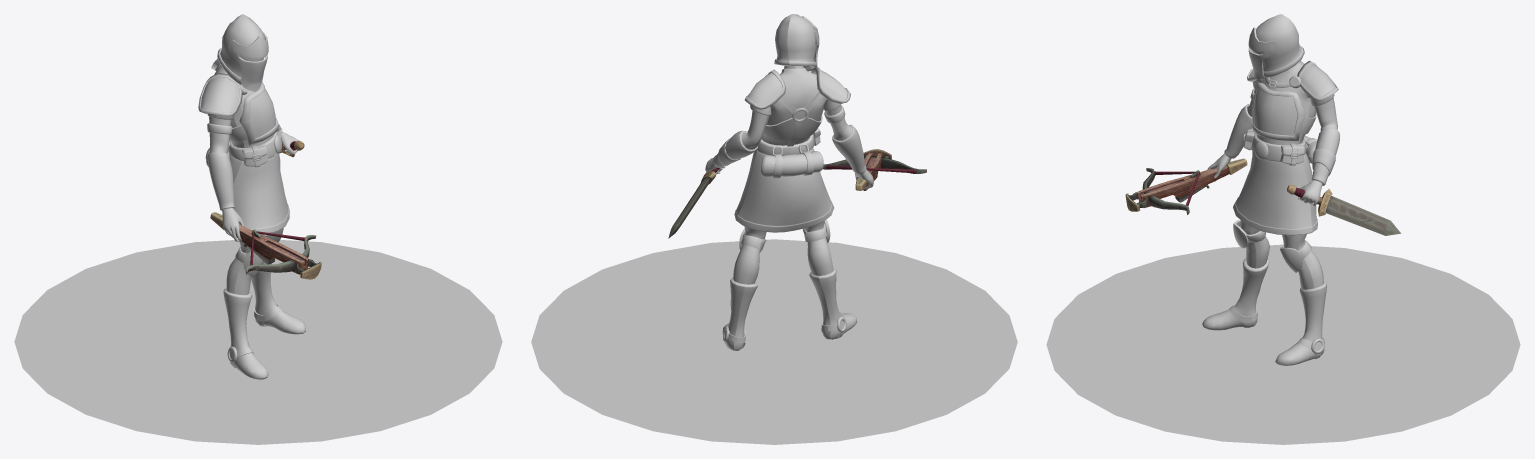
3 views of the same model, side by side, from view 1: azimuth 30°, elevation 25°; view 2: azimuth 150°, elevation 25°; view 3: azimuth 270°, elevation 25° (orthographic). The views are drawn at different scales.
Parts seen in each view (by area): view 1: Floor, Mercenary, Crossbow; view 2: Floor, Mercenary, Crossbow, Sword; view 3: Floor, Mercenary, Crossbow, Sword.
Boxes of the visible parts, x1,y1,x2,y2 form: Floor: [14, 240, 502, 444]; Mercenary: [198, 14, 305, 379]; Crossbow: [210, 212, 321, 279]; Floor: [531, 239, 1017, 444]; Mercenary: [705, 14, 873, 350]; Crossbow: [823, 149, 926, 190]; Sword: [668, 167, 719, 238]; Floor: [1046, 244, 1520, 444]; Mercenary: [1202, 14, 1339, 365]; Crossbow: [1125, 158, 1247, 214]; Sword: [1287, 185, 1400, 235].
Size of the model in its own units: 1.14 by 0.8606 by 1.14.
